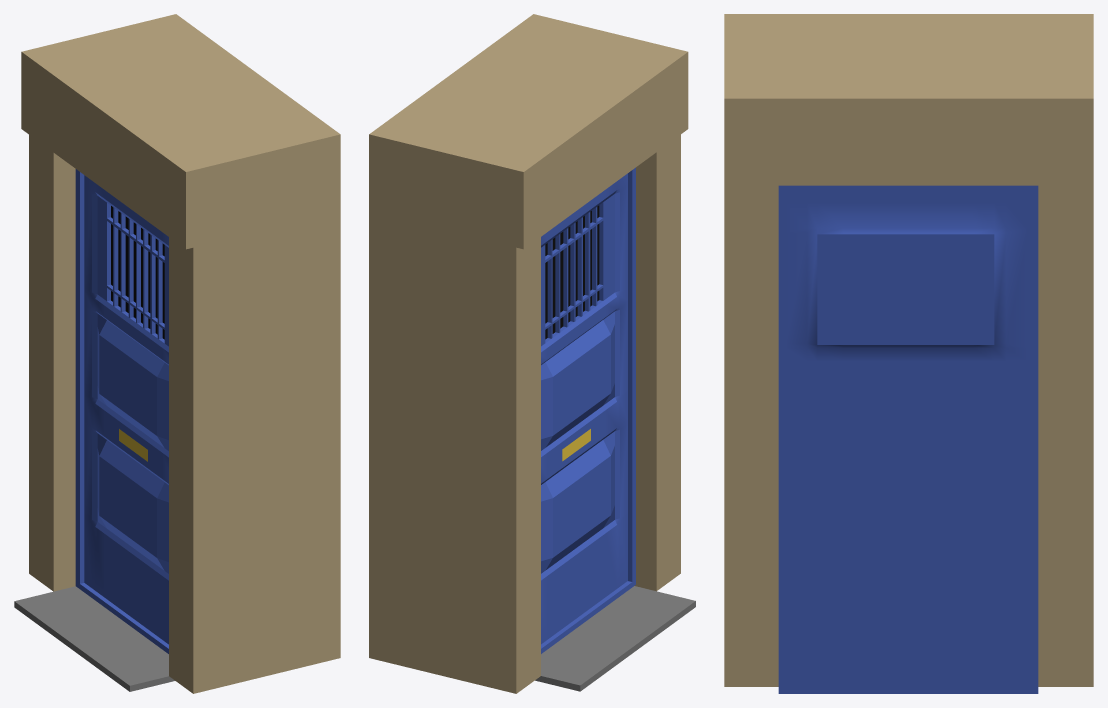
The model's file is DoorSingle2.fbx.
The picture shows the model from 3 angles, left to right: view 1: azimuth 30°, elevation 25°; view 2: azimuth 150°, elevation 25°; view 3: azimuth 270°, elevation 25°; orthographic projection. The views are drawn at different scales.
Visible parts, largest first — view 1: SingleDoor002; view 2: SingleDoor002; view 3: SingleDoor002.
Boxes of the visible parts, x1,y1,x2,y2 form: SingleDoor002: (14,14,340,693); SingleDoor002: (369,14,695,693); SingleDoor002: (724,14,1093,693).
Bounding box in the file's own units: 29.72 × 79.67 × 44.83.
